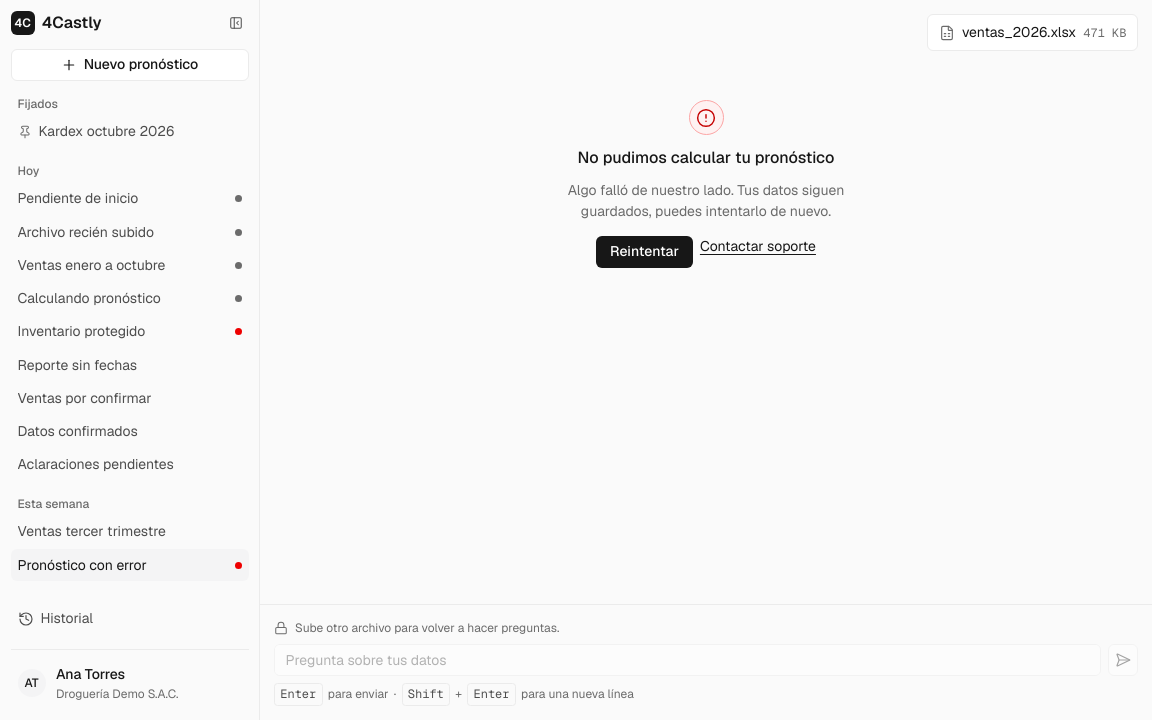
Test: failure (08d) › offers human copy, a support link and a retry that asks the questions again
This screenshot has width=1152, height=720.
Expected: the heading "No pudimos calcular tu pronóstico" is shown, [578, 146, 834, 170]
Click the button "Reintentar": click(644, 252) [596, 236, 693, 268]
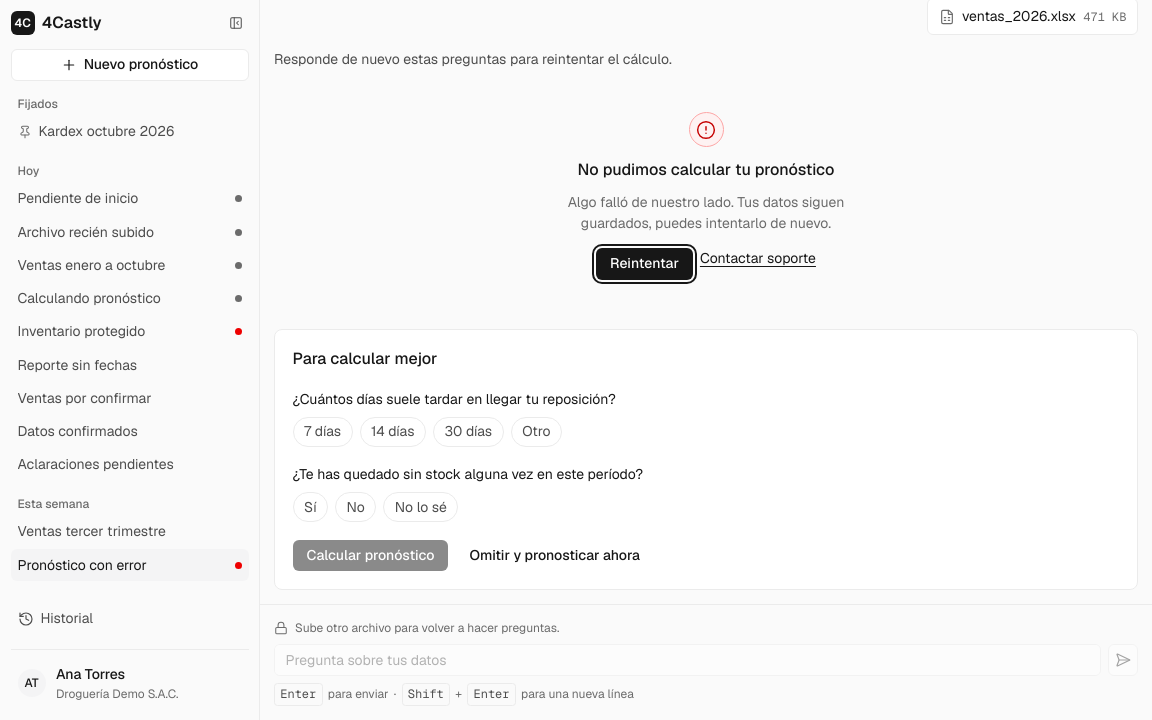
Click the button "Omitir y pronosticar ahora": click(555, 555) [455, 540, 654, 571]
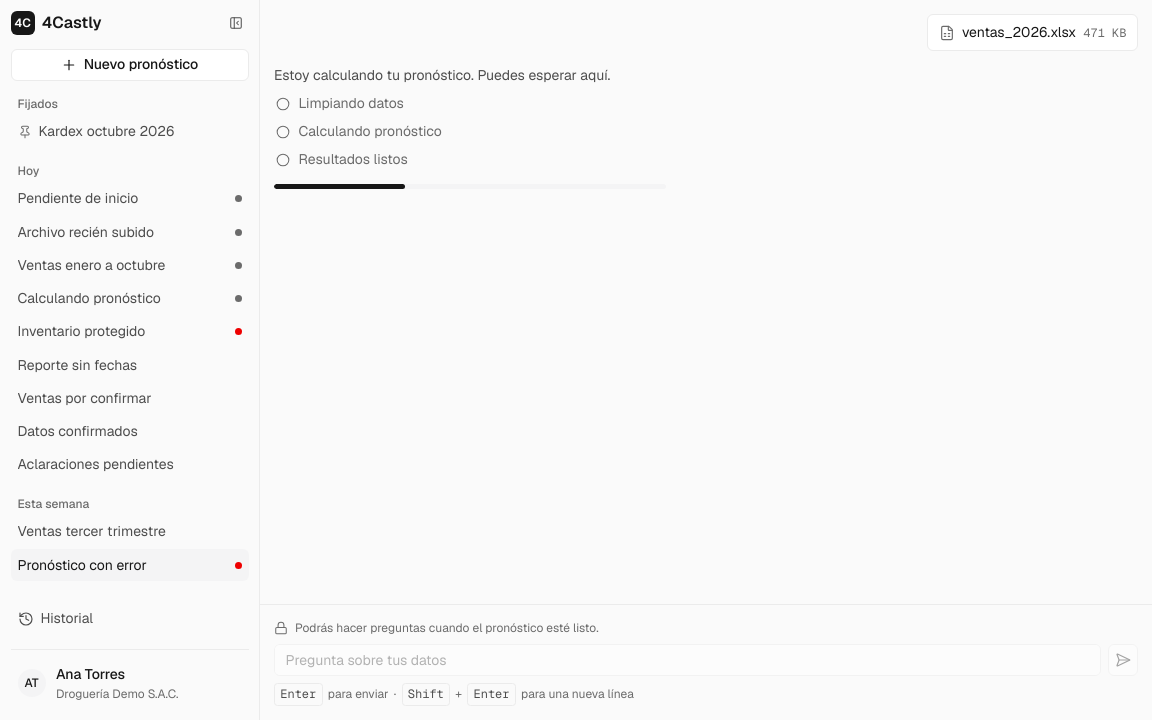
Result: the progress indicator named "Avance del cálculo" is shown at [274, 184, 666, 189]
